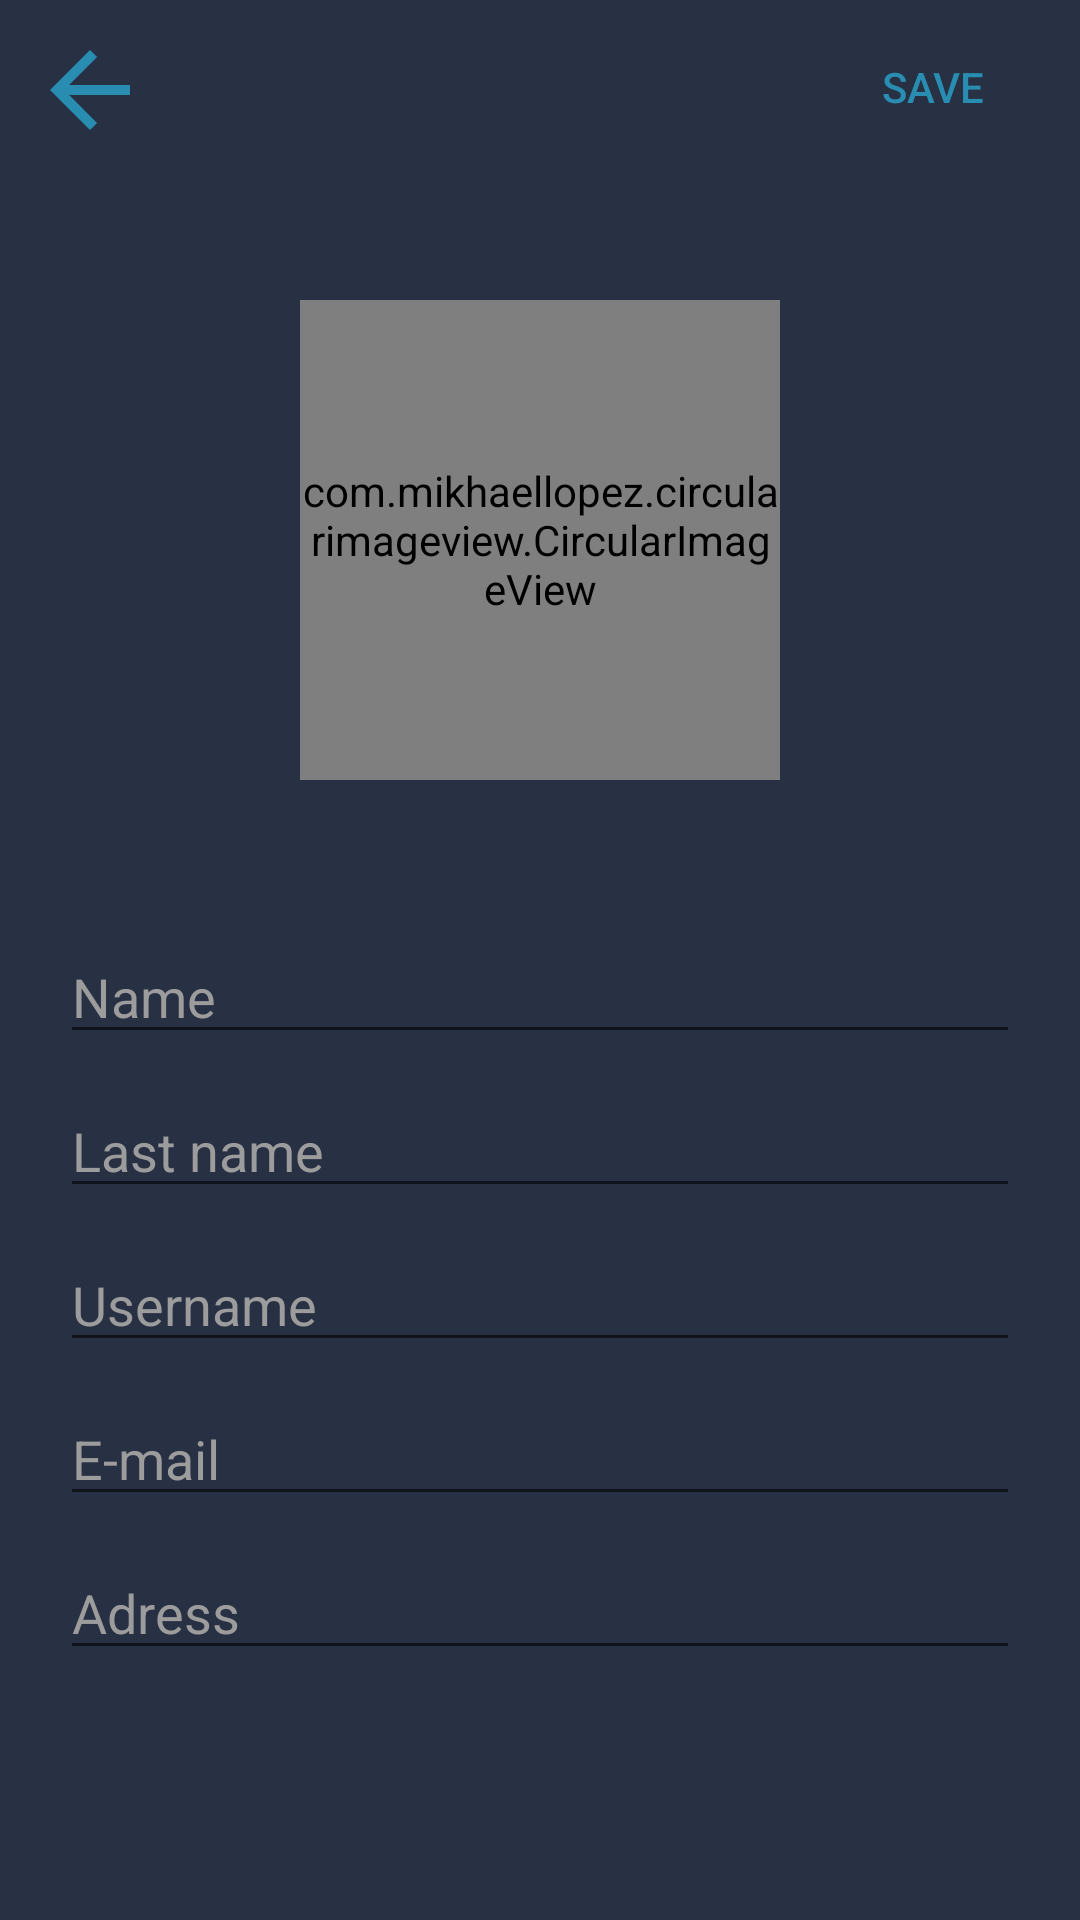

Point at icon controls on the screen. Image size 1080w x 1920h, points as (x,y).
arrow back: (90,90)
